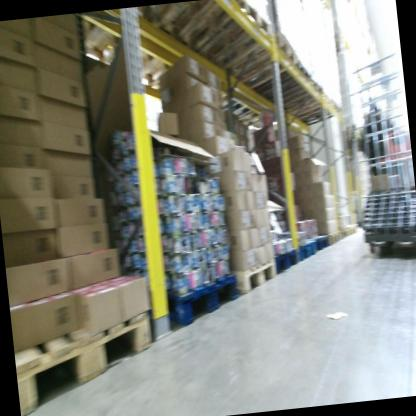pallet: (13, 309, 160, 416), (145, 0, 251, 66), (192, 0, 277, 78), (143, 274, 242, 333), (230, 30, 301, 94), (260, 56, 315, 108), (283, 79, 329, 121), (296, 95, 351, 129), (232, 258, 277, 296), (271, 243, 301, 275), (298, 241, 318, 263), (314, 232, 330, 255)
pallet_truck: (353, 112, 416, 247)
